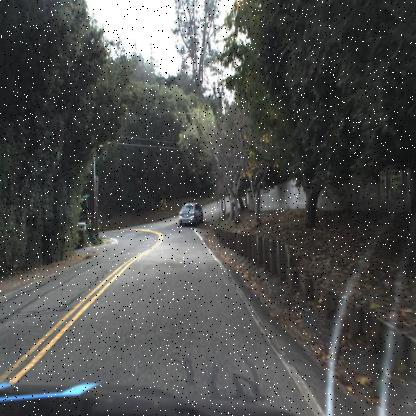car: (176, 196, 206, 232)
